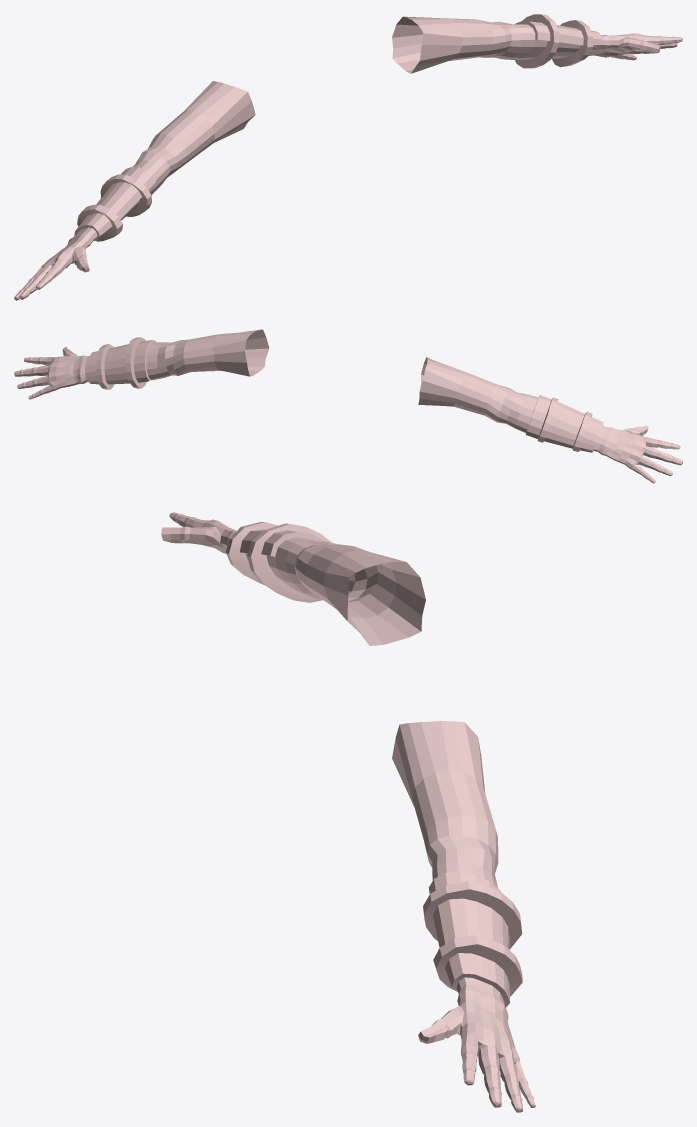
3 renders of one model, top to bottom at view 1: azimuth 30°, elevation 25°; view 2: azimuth 150°, elevation 25°; view 3: azimuth 270°, elevation 25°, orthographic. The views are drawn at different scales.
Visible parts, largest first — view 1: polySurface189; view 2: polySurface189; view 3: polySurface189.
Boxes of the visible parts, x1,y1,x2,y2 form: polySurface189: (14,14,682,300); polySurface189: (14,329,682,483); polySurface189: (161,512,535,1112).
Size of the model in its own units: 1.29 by 0.2018 by 0.3541.
